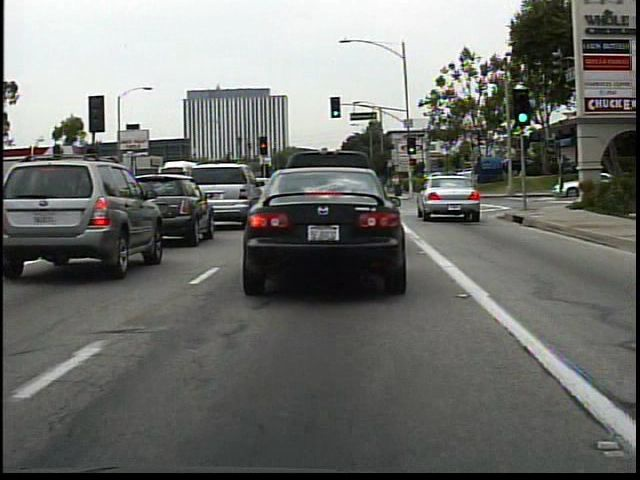person: (390, 173, 405, 199)
